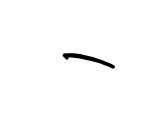minus: (62, 50, 115, 70)
